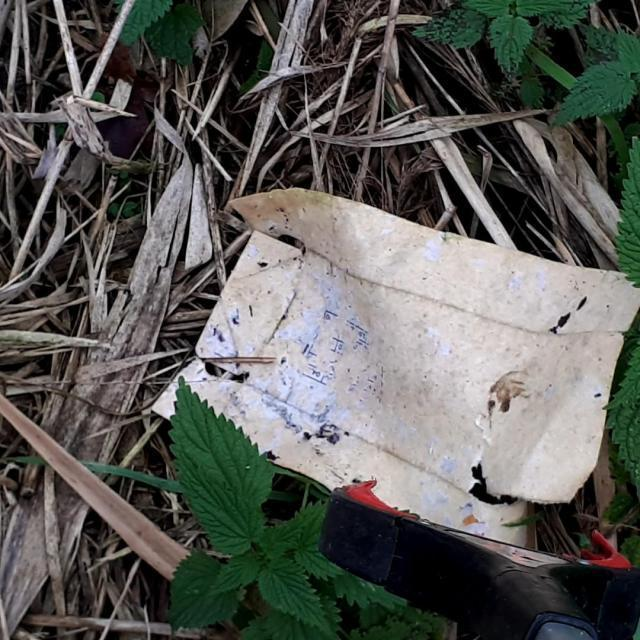Paper: (145, 186, 640, 554)
